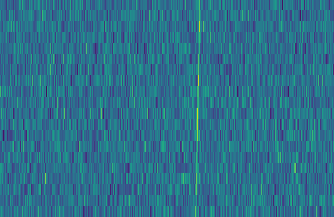signal: (78, 0, 93, 217)
